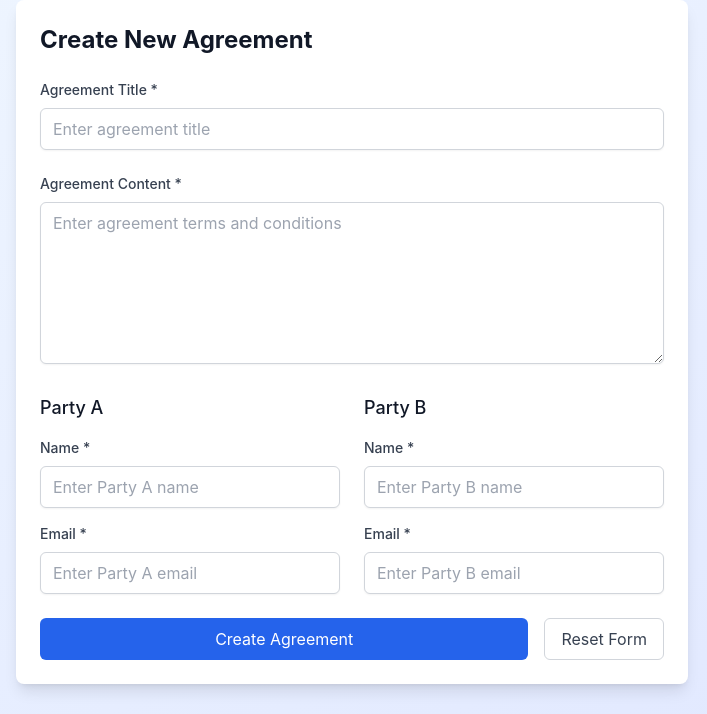
Test: CreateAgreementForm › Form Submission › shows loading state during submission
Type "Test Agreement" into the field labelled "Agreement Title *" at (352, 129), box [40, 108, 664, 150]
Type "This is a test agreement content." into the text box labelled "Agreement Content *" at (352, 283), box [40, 202, 664, 364]
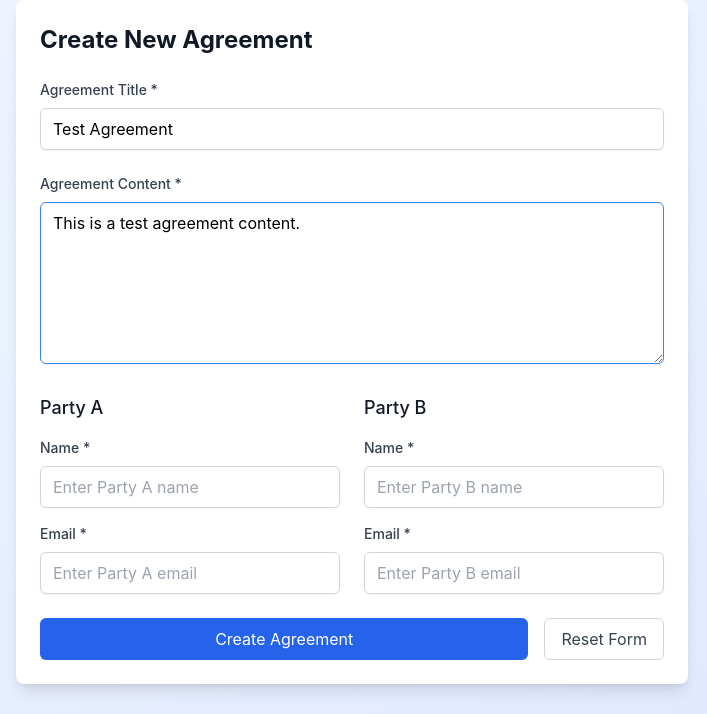
Type "John Doe" into the field labelled "Name *" below "Party A" at (190, 487), box [40, 466, 340, 508]
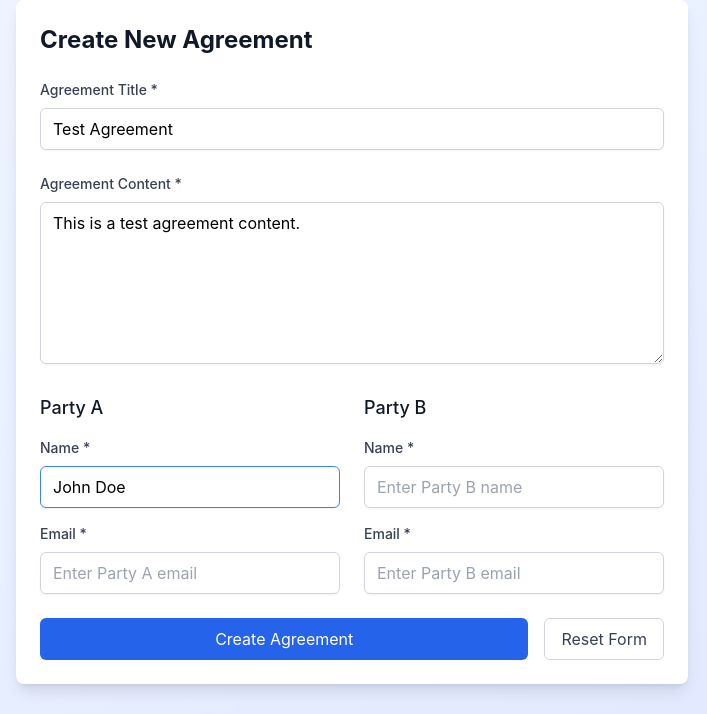
Type "john.doe@example.com" into the field labelled "Email *" below "Party A" at (190, 573), box [40, 552, 340, 594]
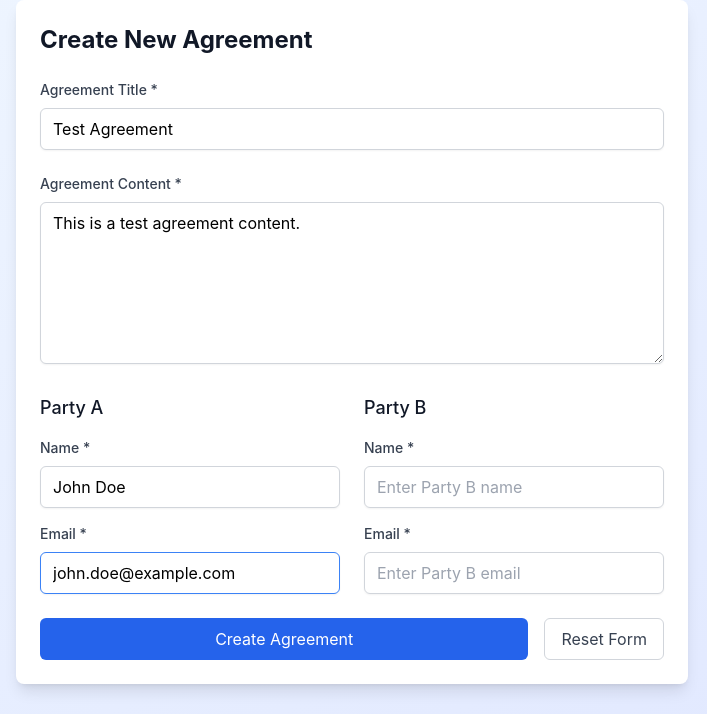
Type "Jane Smith" into the field labelled "Name *" below "Party B" at (514, 487), box [364, 466, 664, 508]
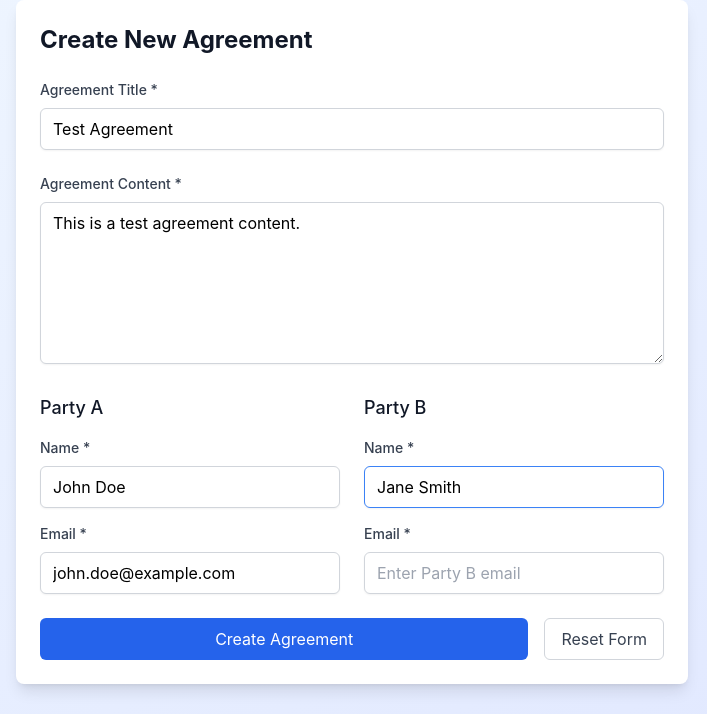
Type "jane.smith@example.com" into the field labelled "Email *" below "Party B" at (514, 573), box [364, 552, 664, 594]
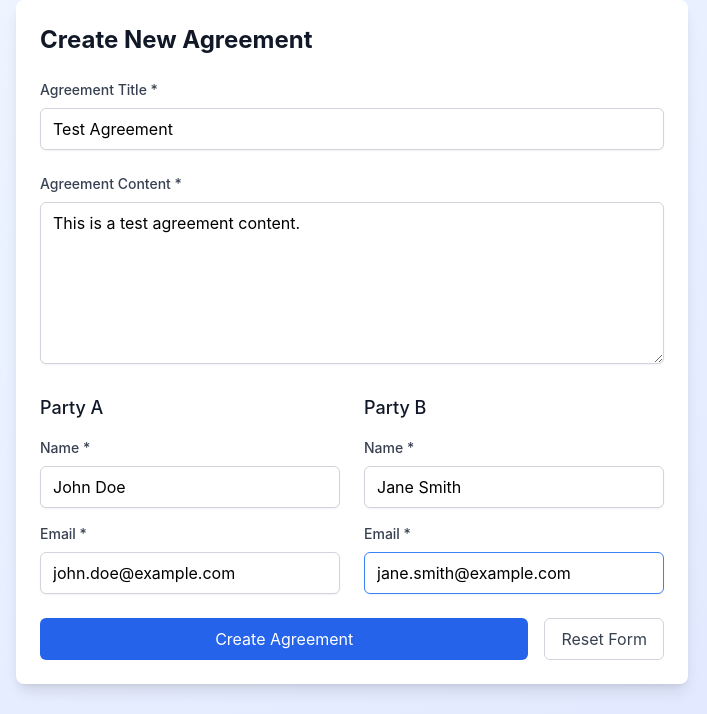
Click the button "Create Agreement" at (284, 639), box [40, 618, 528, 660]
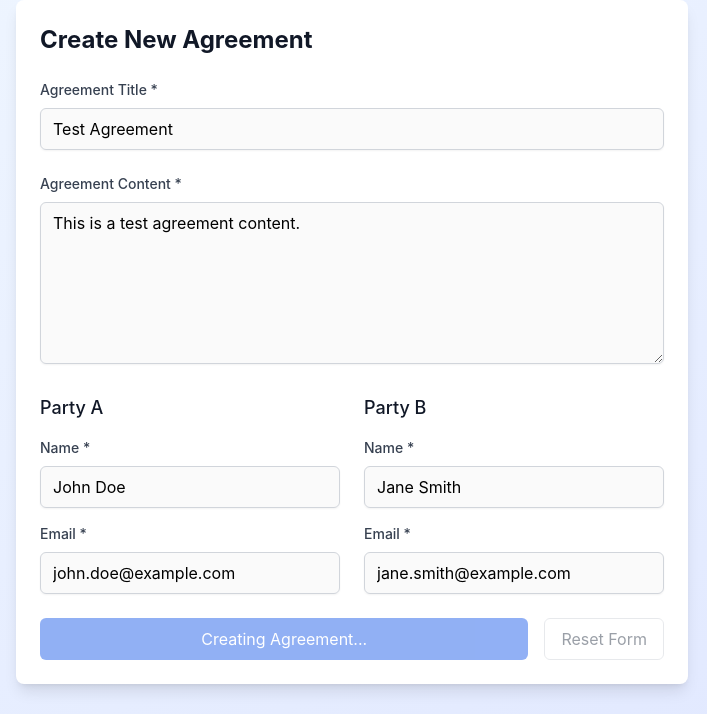
Expected: the button "Creating Agreement..." is disabled, [40, 618, 528, 660]
